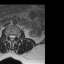CCS_normal: (11, 32, 13, 42)
LFS_normal: (15, 32, 17, 39)
LLS_normal: (13, 32, 15, 40)
RFS_normal: (7, 31, 9, 38)
RLS_normal: (9, 32, 11, 40)
